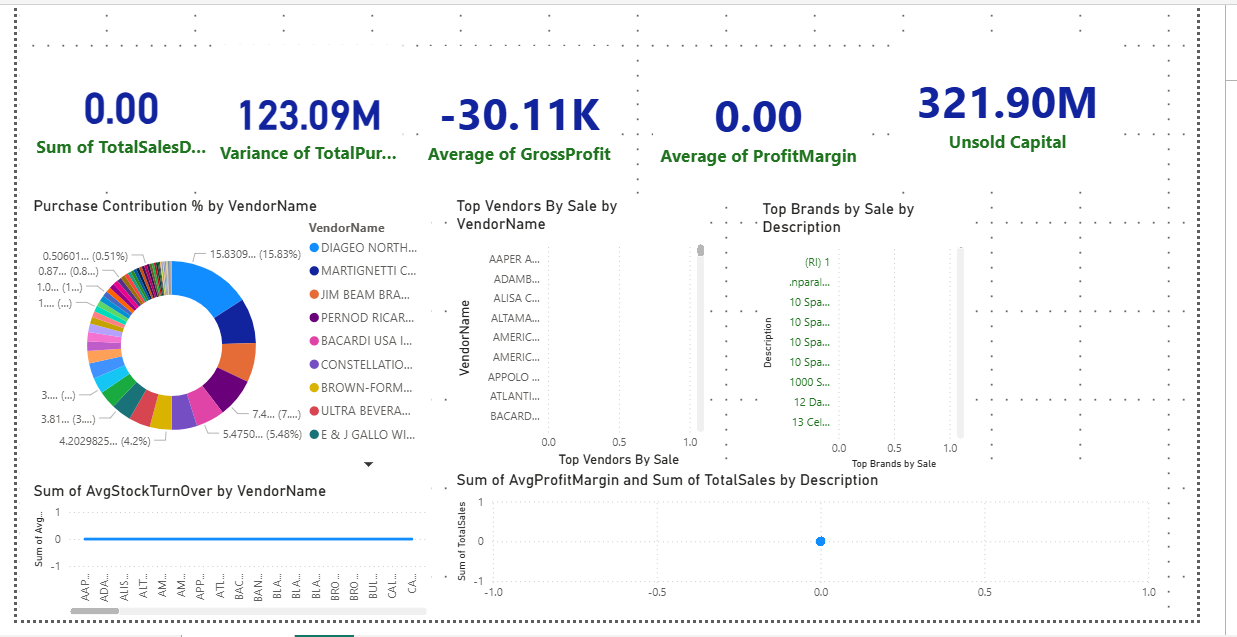

This screenshot's page, from the dashboard's own definition file:
{"tool":"powerbi","page":{"name":"Page 1","canvas":[1280,720],"ordinal":0},"visuals":[{"type":"card","fields":{"Values":["Sum(inventory vendor_sales_summary.TotalSalesDollars)"]},"box":[13.4,99.8,199.7,145.9],"z":0},{"type":"card","fields":{"Values":["Sum(inventory vendor_sales_summary.TotalPurchaseQuantity)"]},"box":[213.1,96,205.4,167],"z":1},{"type":"card","fields":{"Values":["Avg(inventory vendor_sales_summary.GrossProfit)"]},"box":[435.8,97.9,217,167],"z":2},{"type":"card","fields":{"Values":["Avg(inventory vendor_sales_summary.ProfitMargin)"]},"box":[689.3,99.8,228.5,167],"z":3},{"type":"card","fields":{"Values":["inventory vendor_sales_summary.Unsold Capital"]},"box":[960,90.2,228.5,155.5],"z":4},{"type":"donutChart","fields":{"Y":["Sum(PurchaseContribution.PurchaseContribution%)"],"Category":["PurchaseContribution.VendorName"]},"box":[13.2,260.8,436.5,304.3],"z":5},{"type":"barChart","fields":{"Category":["inventory vendor_sales_summary.VendorName"],"Y":["Sum(inventory vendor_sales_summary.TotalSalesDollars)"]},"box":[472.3,261.1,278.4,297.6],"z":6},{"type":"barChart","fields":{"Category":["inventory vendor_sales_summary.Description"],"Y":["Sum(inventory vendor_sales_summary.TotalSalesDollars)"]},"box":[804.5,263,228.5,297.6],"z":7},{"type":"stackedAreaChart","fields":{"Category":["LowTurnoverVendor.VendorName"],"Y":["Sum(LowTurnoverVendor.AvgStockTurnOver)"]},"box":[13.2,570,436.5,150],"z":8},{"type":"scatterChart","fields":{"Category":["BrandPerformance.Description"],"X":["Sum(BrandPerformance.AvgProfitMargin)"],"Y":["Sum(BrandPerformance.TotalSales)"]},"box":[472.3,558.7,768,149.8],"z":9}]}

Visuals, with their boxes on the page's 1280x720 design canvas (x1, y1, x2, y2). These are canvas units, not pixel positions in the 1237x637 screenshot, which may show the page scaled, cropped or inside an application window:
card - Sum(inventory vendor_sales_summary.TotalSalesDollars): [left=13, top=100, right=213, bottom=246]
card - Sum(inventory vendor_sales_summary.TotalPurchaseQuantity): [left=213, top=96, right=418, bottom=263]
card - Avg(inventory vendor_sales_summary.GrossProfit): [left=436, top=98, right=653, bottom=265]
card - Avg(inventory vendor_sales_summary.ProfitMargin): [left=689, top=100, right=918, bottom=267]
card - inventory vendor_sales_summary.Unsold Capital: [left=960, top=90, right=1188, bottom=246]
donutChart - Sum(PurchaseContribution.PurchaseContribution%) x PurchaseContribution.VendorName: [left=13, top=261, right=450, bottom=565]
barChart - inventory vendor_sales_summary.VendorName x Sum(inventory vendor_sales_summary.TotalSalesDollars): [left=472, top=261, right=751, bottom=559]
barChart - inventory vendor_sales_summary.Description x Sum(inventory vendor_sales_summary.TotalSalesDollars): [left=804, top=263, right=1033, bottom=561]
stackedAreaChart - LowTurnoverVendor.VendorName x Sum(LowTurnoverVendor.AvgStockTurnOver): [left=13, top=570, right=450, bottom=720]
scatterChart - BrandPerformance.Description x Sum(BrandPerformance.AvgProfitMargin): [left=472, top=559, right=1240, bottom=708]
